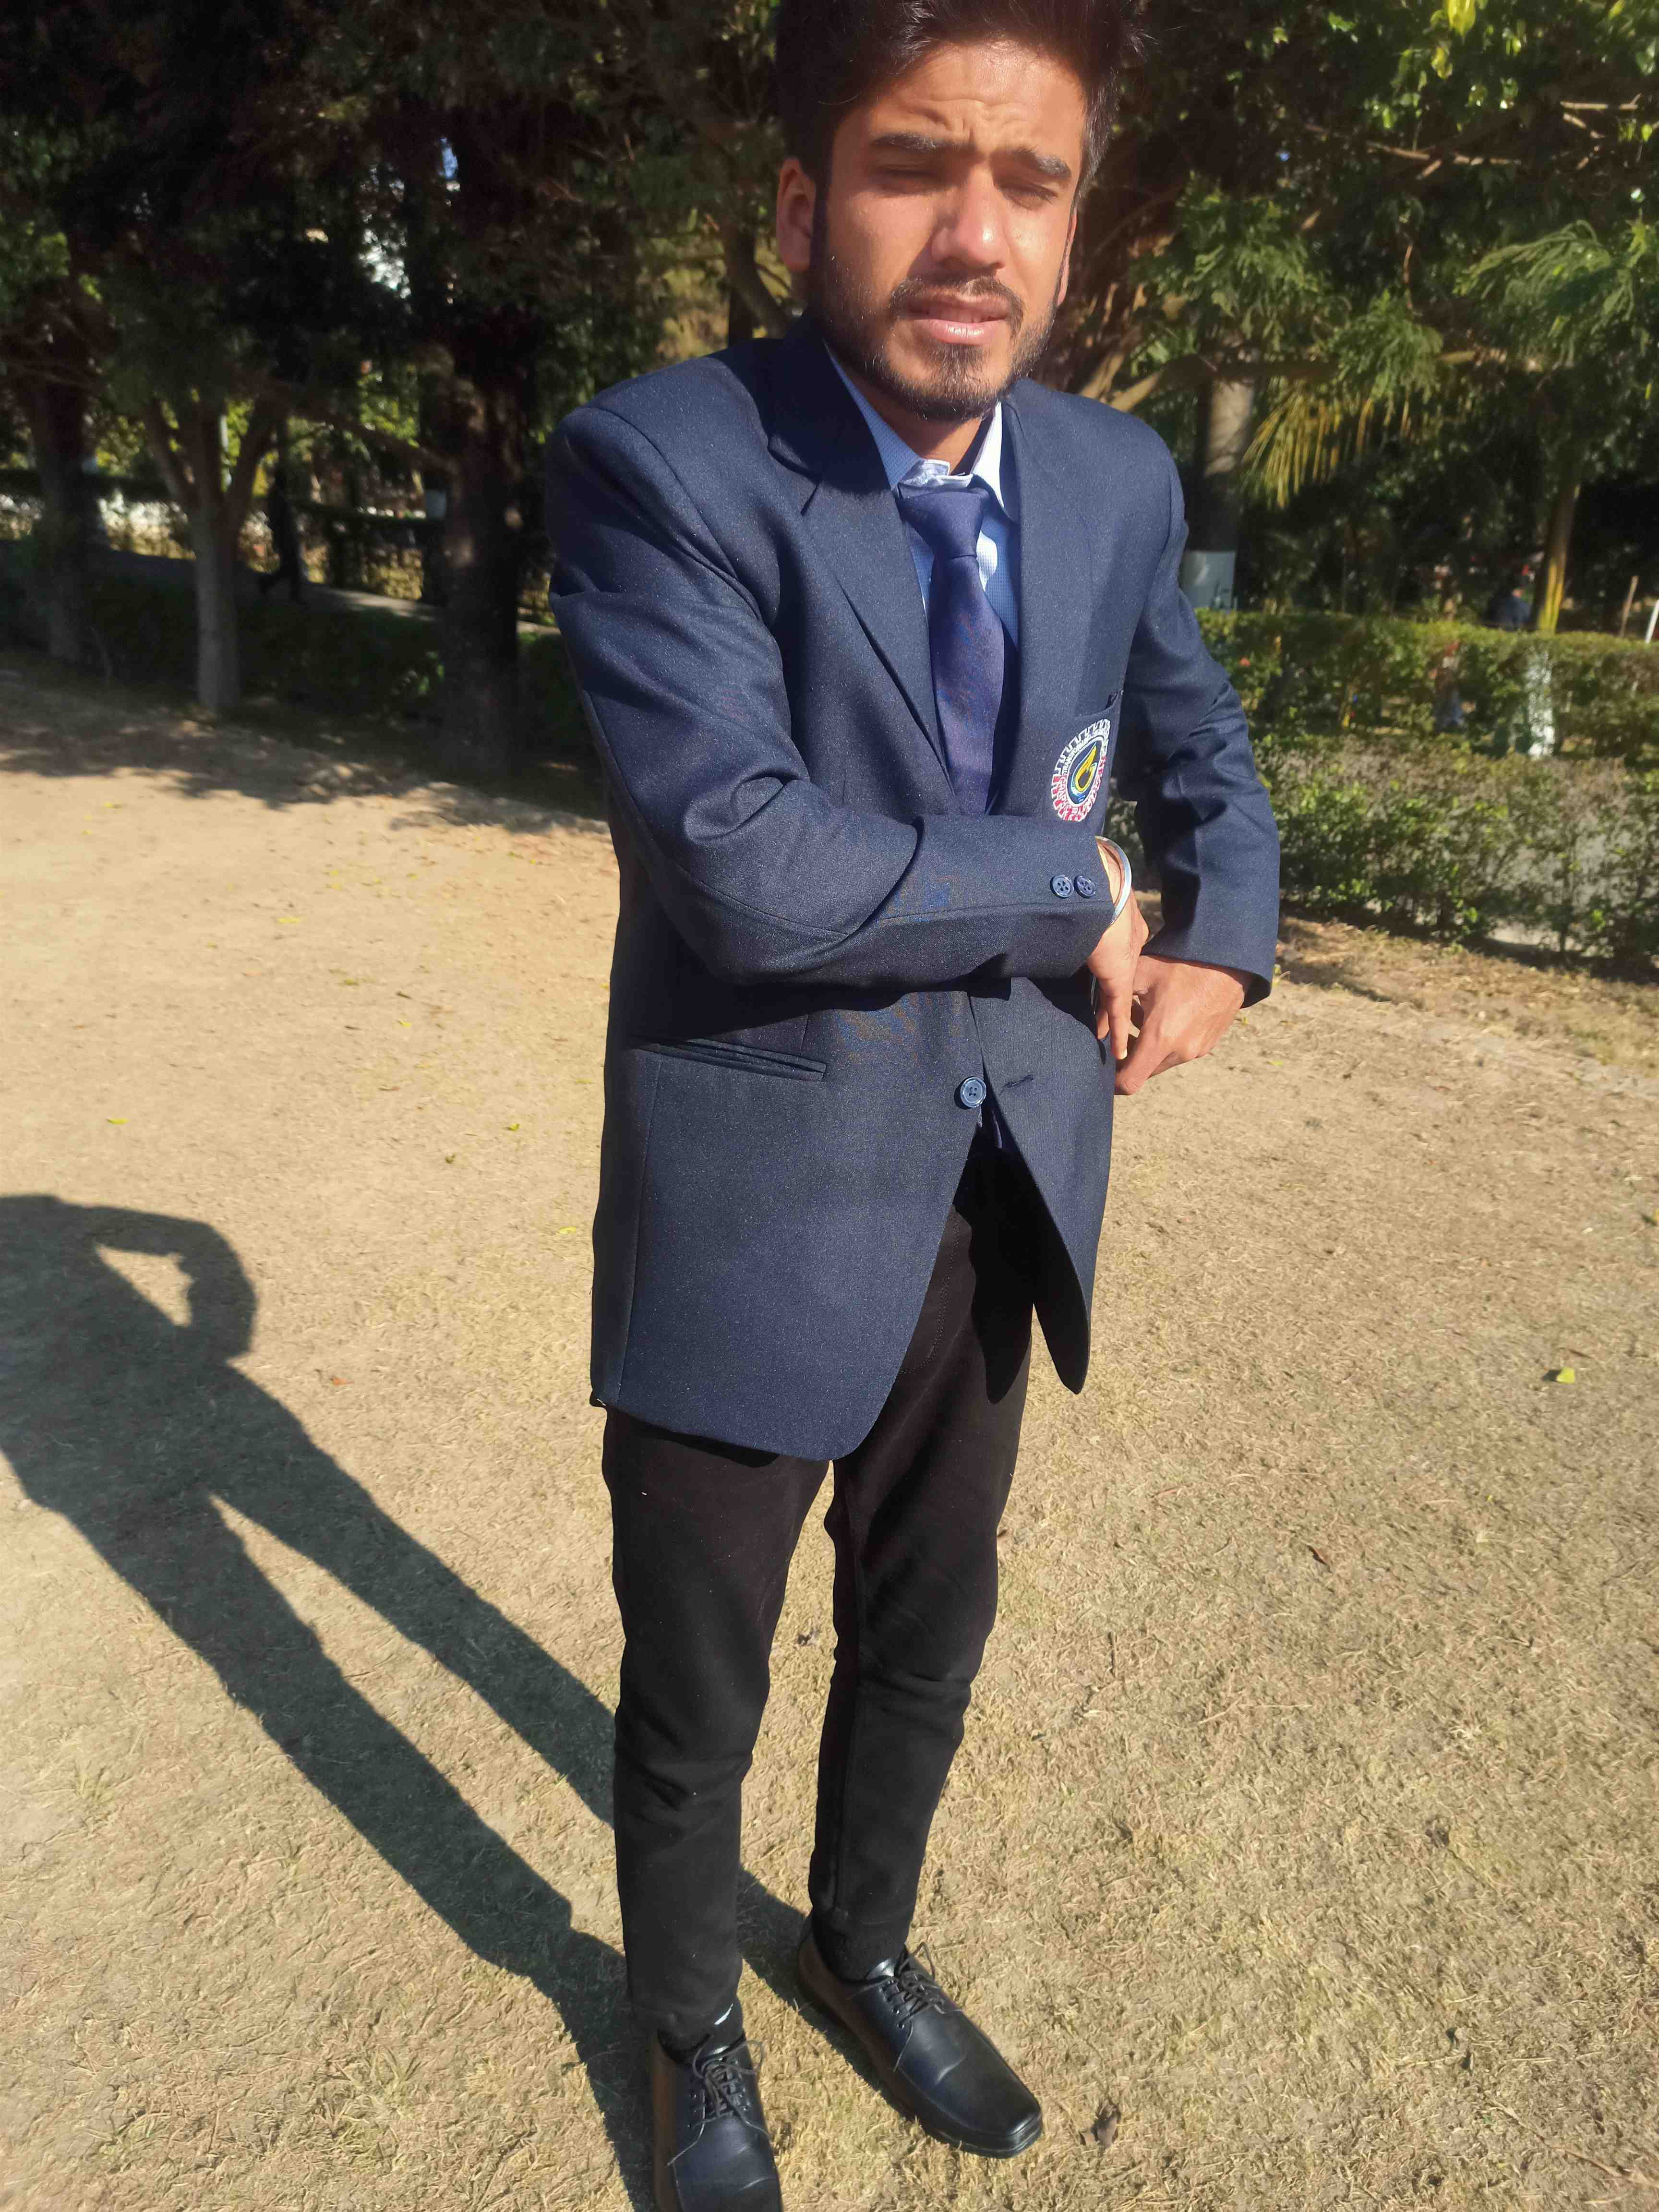blazer: (464, 341, 1222, 1418)
tie: (920, 472, 1035, 845)
